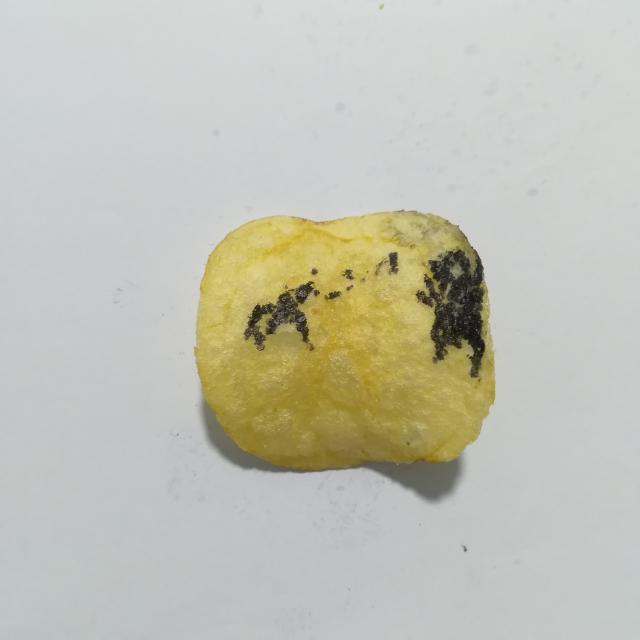chip: (195, 211, 495, 470)
damaged: (416, 247, 485, 378), (244, 281, 319, 351), (389, 252, 398, 274), (325, 291, 341, 300), (341, 269, 354, 280), (311, 268, 318, 275), (346, 285, 354, 291), (284, 285, 288, 289)
semi-damaged: (416, 247, 485, 378), (360, 277, 366, 282), (366, 270, 370, 274)
